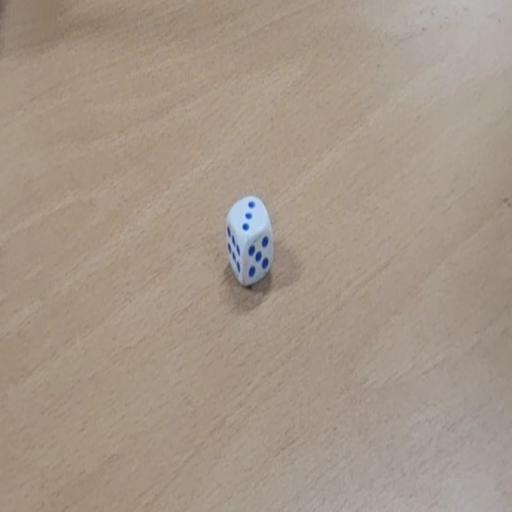dice_3: (225, 195, 273, 288)
